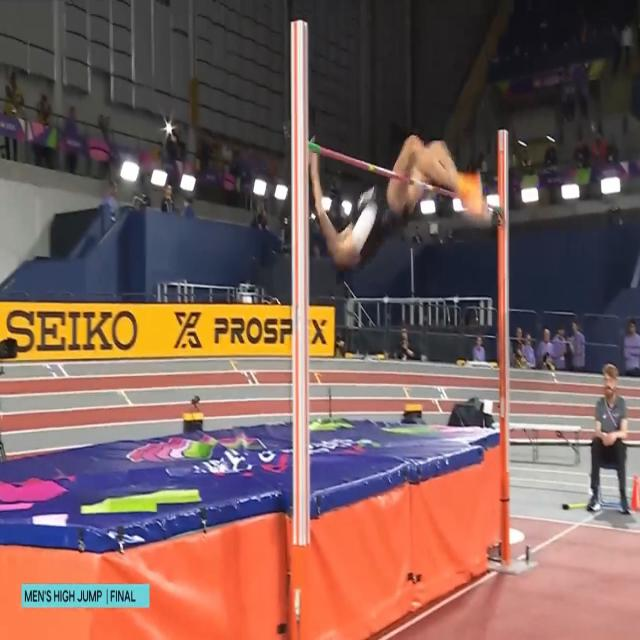jump: (303, 130, 489, 264)
